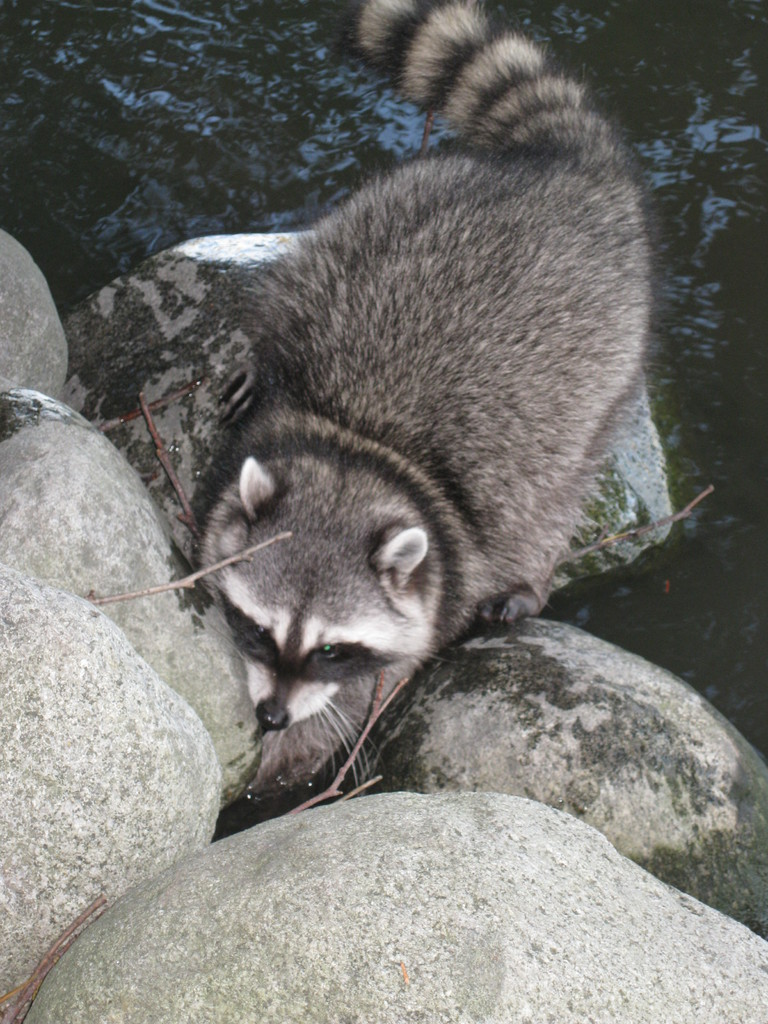raccoon: (197, 7, 655, 733)
